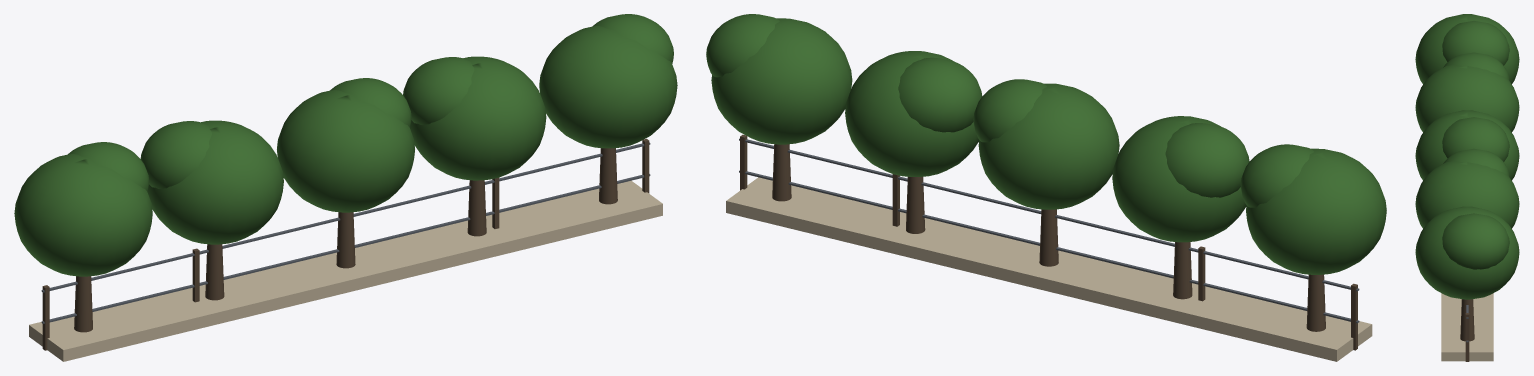
File: d-it-04-orchard-tree-row.glb
3 views of the same model, side by side, from view 1: azimuth 30°, elevation 25°; view 2: azimuth 150°, elevation 25°; view 3: azimuth 270°, elevation 25° (orthographic). The views are drawn at different scales.
Parts seen in each view (by area): view 1: part0, part9, part15, part21, part12, part18, part13, part19, part7, part6, part22, part16 (+6 smaller); view 2: part0, part9, part15, part21, part12, part18, part13, part19, part16, part10, part22, part7 (+6 smaller); view 3: part21, part18, part12, part22, part0, part15, part9, part10, part16, part19, part13, part20 (+1 smaller).
Boxes of the visible parts, left/top/right/bottom form: part0: left=29, top=180, right=662, bottom=361; part9: left=14, top=154, right=152, bottom=276; part15: left=277, top=90, right=414, bottom=212; part21: left=539, top=26, right=677, bottom=148; part12: left=147, top=120, right=283, bottom=244; part18: left=410, top=56, right=546, bottom=180; part13: left=140, top=121, right=211, bottom=188; part19: left=403, top=57, right=474, bottom=124; part7: left=41, top=142, right=650, bottom=292; part6: left=41, top=174, right=650, bottom=323; part22: left=592, top=14, right=673, bottom=63; part16: left=330, top=78, right=411, bottom=127; part0: left=726, top=177, right=1372, bottom=361; part9: left=1246, top=148, right=1386, bottom=274; part15: left=978, top=83, right=1119, bottom=209; part21: left=711, top=18, right=852, bottom=144; part12: left=1112, top=116, right=1249, bottom=242; part18: left=845, top=51, right=979, bottom=176; part13: left=1165, top=123, right=1249, bottom=197; part19: left=898, top=57, right=982, bottom=132; part16: left=973, top=79, right=1046, bottom=142; part10: left=1240, top=144, right=1313, bottom=207; part22: left=706, top=14, right=779, bottom=77; part7: left=739, top=138, right=1359, bottom=291; part21: left=1415, top=206, right=1519, bottom=299; part18: left=1415, top=161, right=1519, bottom=228; part12: left=1415, top=64, right=1519, bottom=132; part22: left=1442, top=213, right=1509, bottom=269; part0: left=1441, top=293, right=1493, bottom=361; part15: left=1415, top=110, right=1519, bottom=180; part9: left=1415, top=14, right=1519, bottom=84; part10: left=1442, top=21, right=1509, bottom=65; part16: left=1442, top=117, right=1509, bottom=161; part19: left=1443, top=148, right=1509, bottom=176; part13: left=1443, top=52, right=1509, bottom=80; part20: left=1460, top=299, right=1474, bottom=341.
Size of the model in its own units: 17300 by 4700 by 3198.
